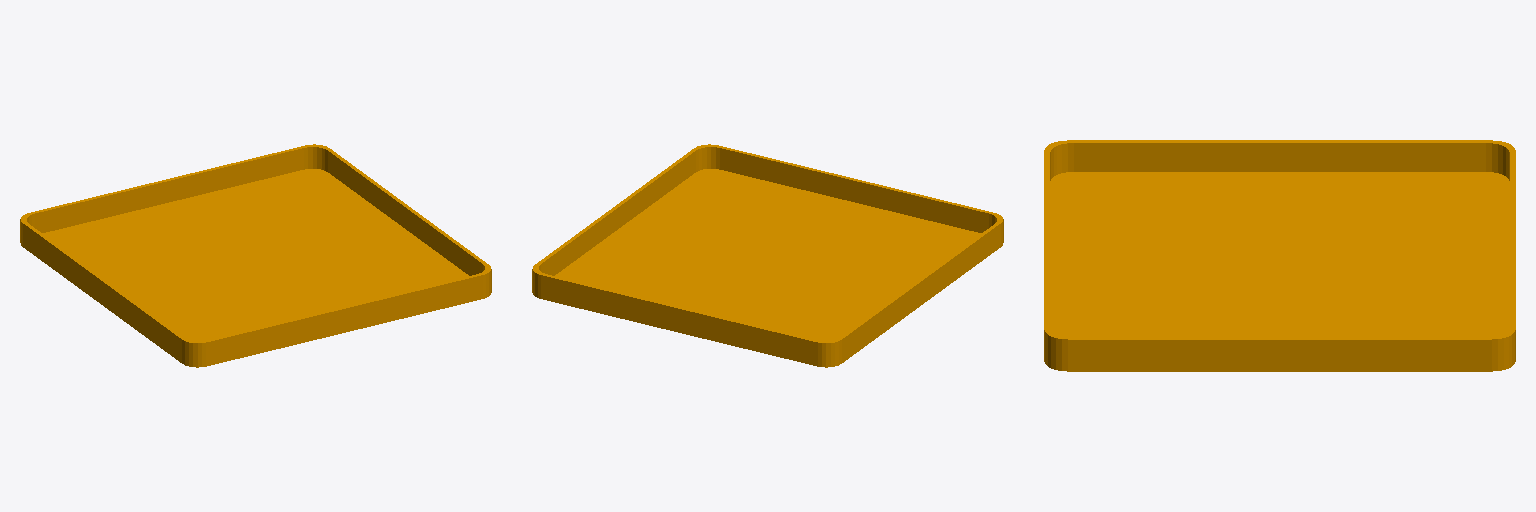
URDF robot description (arena):
<?xml version="1.0" encoding="utf-8"?>
<!-- =================================================================================== -->
<!-- |    This document was autogenerated by xacro from arena.urdf.xacro               | -->
<!-- |    EDITING THIS FILE BY HAND IS NOT RECOMMENDED                                 | -->
<!-- =================================================================================== -->
<robot name="arena">
  <link name="arena_link">
    <collision>
      <origin rpy="0 0 -4.71238898038" xyz="0 0 0"/>
      <!-- <origin xyz="0 0 0" rpy="0 0 0" /> -->
      <geometry>
        <mesh filename="package://hero_gazebo/worlds/models/arena_0/arena.obj" scale="1 1 1"/>
      </geometry>
    </collision>
    <visual>
      <origin rpy="0 0 -4.71238898038" xyz="0 0 0"/>
      <!-- <origin xyz="0 0 0" rpy="0 0 0" /> -->
      <geometry>
        <mesh filename="package://hero_gazebo/worlds/models/arena_0/arena.obj" scale="1 1 1"/>
      </geometry>
    </visual>
    <inertial>
      <origin rpy="0 0 0" xyz="0 0 0"/>
      <mass value="100"/>
      <inertia ixx="134.083333333" ixy="0" ixz="0" iyy="134.083333333" iyz="0" izz="134.083333333"/>
    </inertial>
  </link>
  <gazebo reference="arena_link">
    <static>true</static>
    <gravity>false</gravity>
    <selfCollide>false</selfCollide>
  </gazebo>
</robot>

--- Render facts (derived) ---
3 views of the same robot in one strip: view 1: azimuth 30°, elevation 25°; view 2: azimuth 150°, elevation 25°; view 3: azimuth 270°, elevation 25° (orthographic).
Model arena with 1 links and 0 joints (none), rooted at arena_link, posed every joint at zero.
Links seen in each view (by area): view 1: arena_link; view 2: arena_link; view 3: arena_link.
Link boxes in pixels (box(x1,y1,x2,y2)): arena_link: box(20, 144, 491, 367); arena_link: box(532, 144, 1003, 367); arena_link: box(1044, 140, 1515, 371).
Bounding box of the posed robot: 4 × 4 × 0.3 m (x, y, z).
Meshes: 1 distinct files referenced, 1 mesh visuals loaded (1 OBJ).
